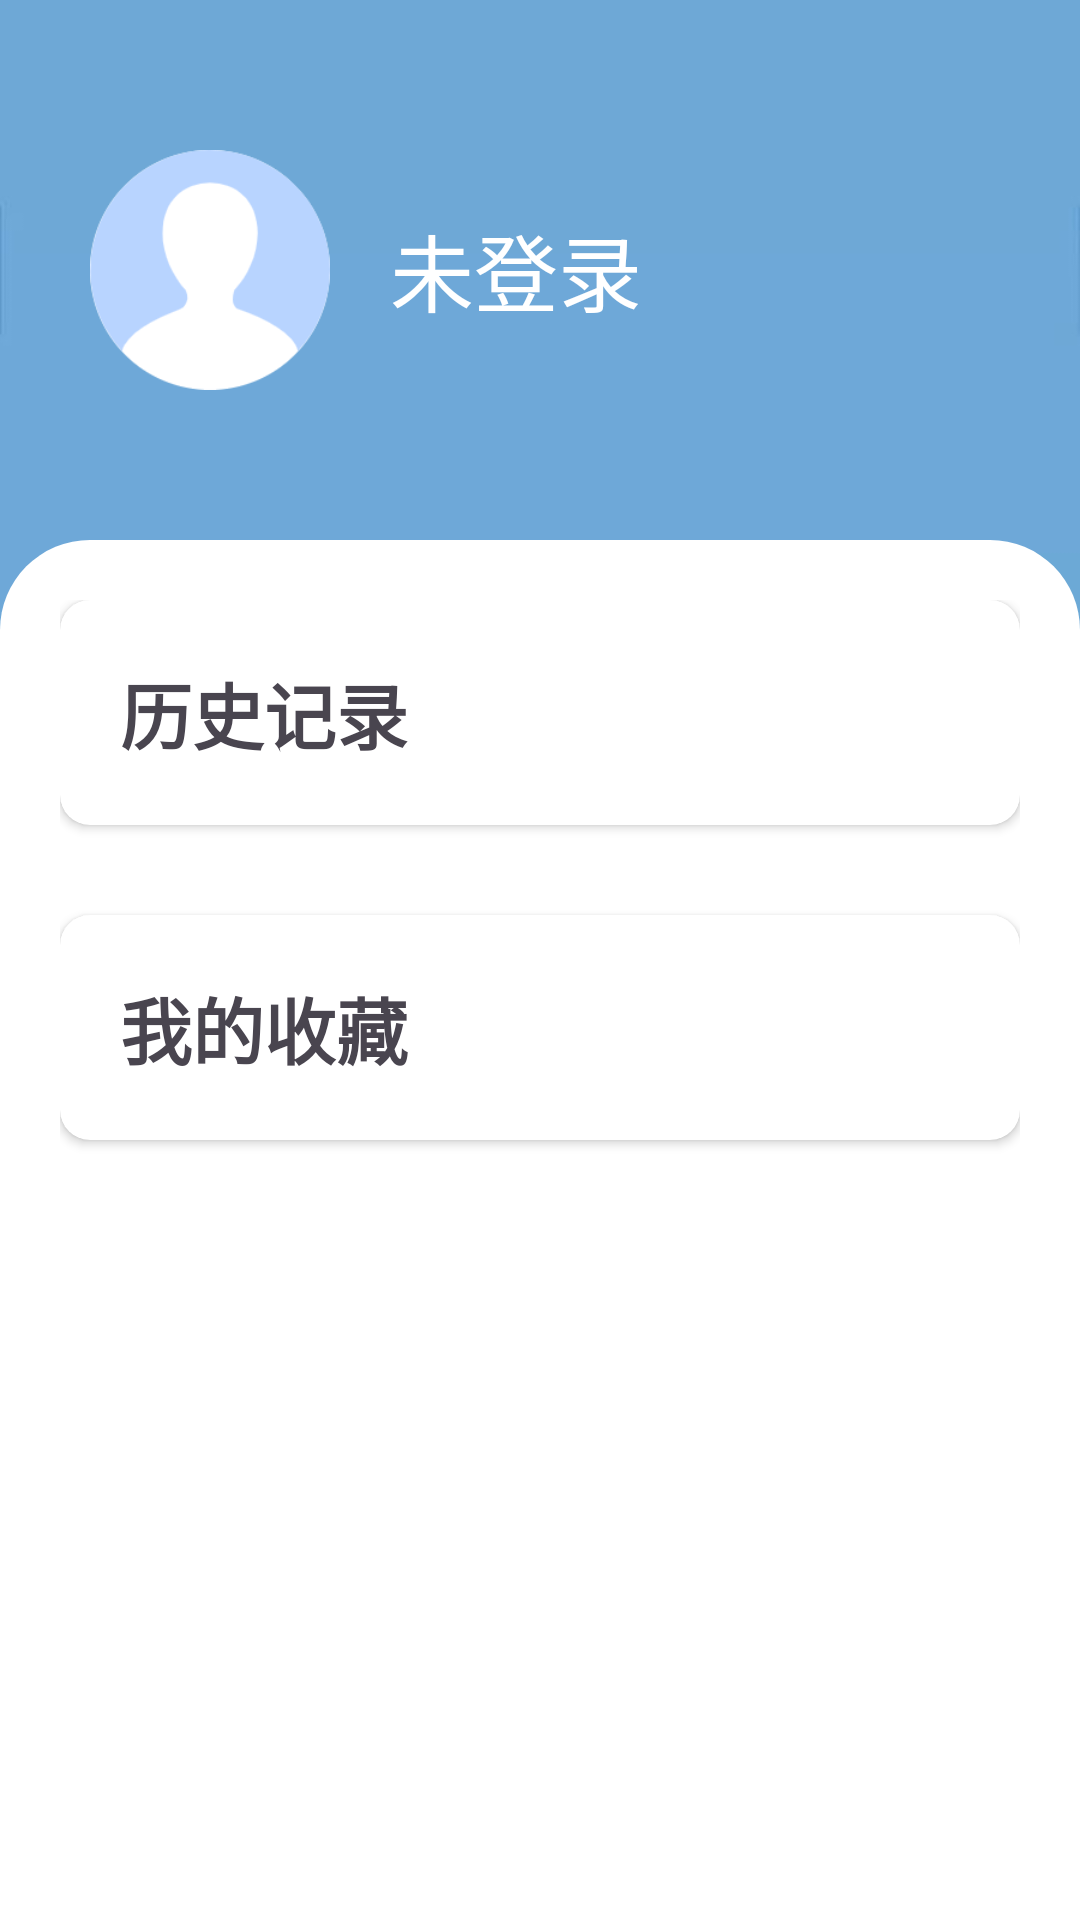

Point at icon controls on the screen. Image size 1080px×1920px, points as (x=x, y=y).
login: (x=210, y=270)
